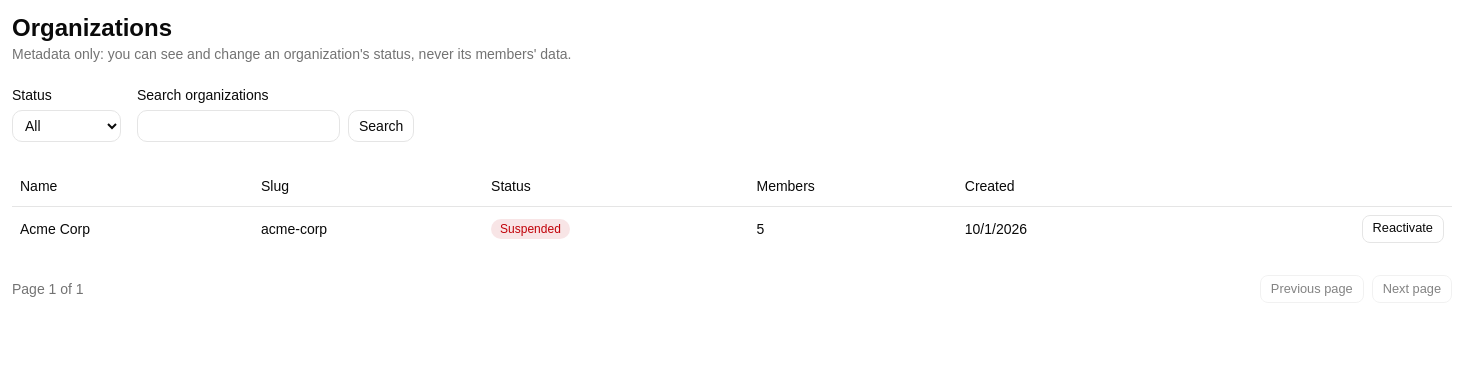
Test: PlatformOrganizationsPage › reactivates a suspended organization with the reactivation reasons
The width and height of the screenshot is (1464, 382).
Check: the text "Acme Corp" is shown, box x1=12 y1=206 x2=253 y2=250
Check: the text "Suspended" is shown, box x1=491 y1=219 x2=570 y2=239
Click the button with aria-label "Reactivate Acme Corp": [1403, 228] box x1=1362 y1=214 x2=1444 y2=242
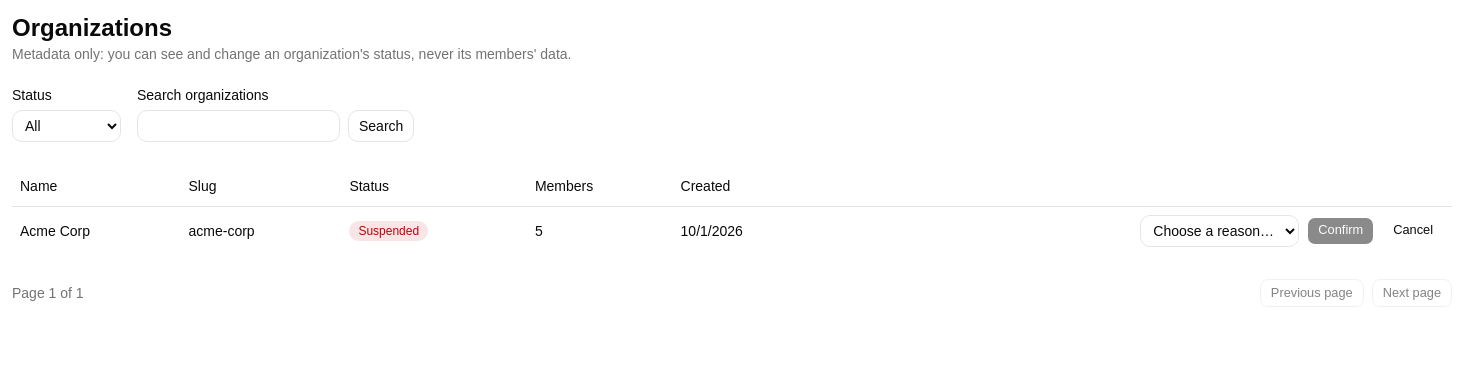
Select "Issue resolved" in the dropdown named "Reason for reactivating Acme Corp": [1220, 230] box x1=1140 y1=214 x2=1299 y2=246
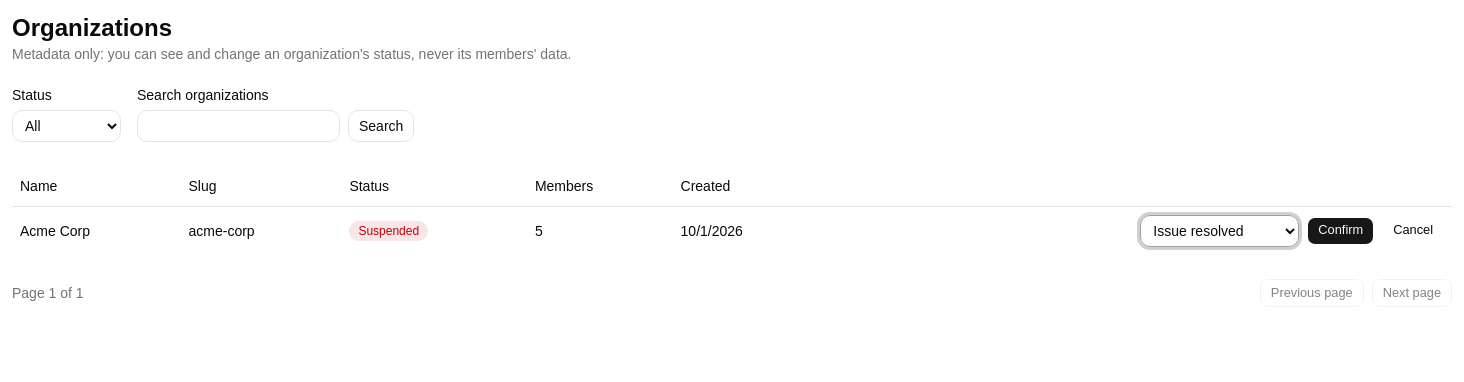
Click the button with aria-label "Confirm reactivation of Acme Corp": [1341, 230] box x1=1307 y1=216 x2=1374 y2=244
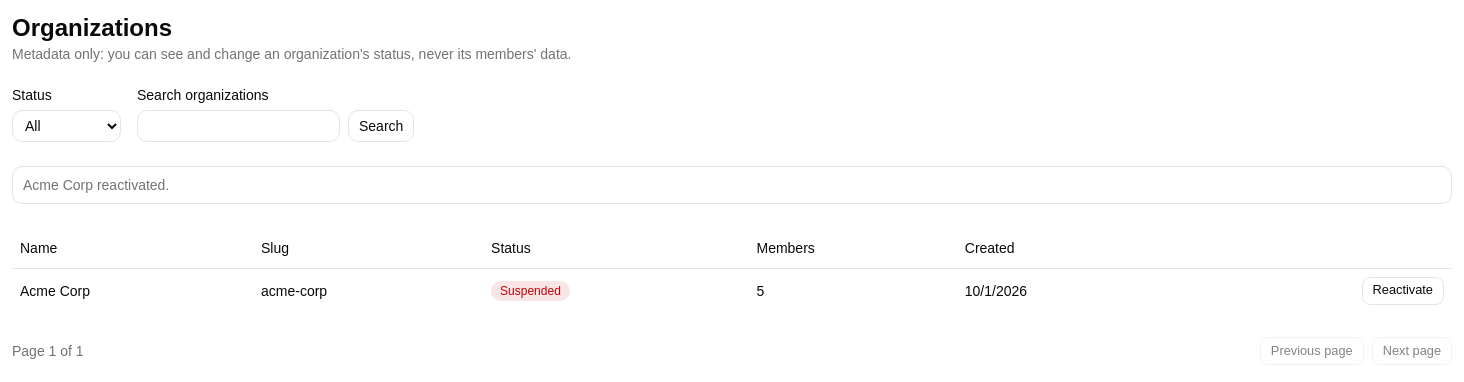
Check: the text "Acme Corp reactivated." is shown, box x1=23 y1=177 x2=169 y2=193
